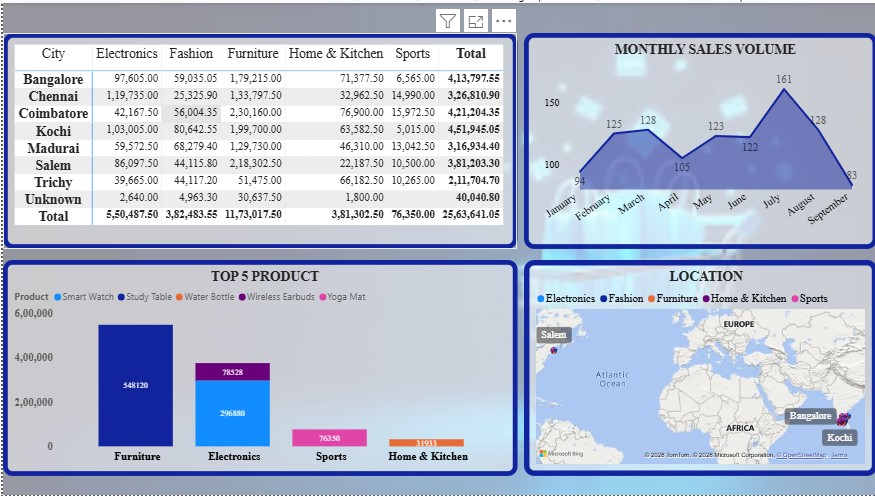

What the dashboard file says about the page in this screenshot:
{"tool":"powerbi","page":{"name":"Page 3","canvas":[1280,720],"ordinal":2},"visuals":[{"type":"pivotTable","fields":{"Rows":["Sales Data.City"],"Columns":["Sales Data.Category"],"Values":["Sum(Sales Data.Sales amount check)"]},"box":[0,44.4,752.7,316],"z":0},{"type":"columnChart","title":"TOP 5 PRODUCT","fields":{"Y":["Sum(Sales Data.Sales Amount)"],"Category":["Sales Data.Category"],"Series":["Sales Data.Product"]},"box":[0,376.4,752.7,316],"z":1000},{"type":"lineChart","title":"MONTHLY SALES VOLUME","fields":{"Y":["Sum(Sales Data.Quantity)"],"Category":["Sales Data.Order Date.Variation.Date Hierarchy.Month"]},"box":[763,44,517,316],"z":2000},{"type":"map","title":"LOCATION","fields":{"Category":["Sales Data.City"],"Series":["Sales Data.Category"]},"box":[763,376,517,316],"z":3000}]}

Visuals, with their boxes in screenshot pixels (x1, y1, x2, y2), scaled from the page's 1280x720 canvas onto the 875x496 screenshot:
pivotTable - Sales Data.City x Sales Data.Category: (left=0, top=31, right=515, bottom=248)
"TOP 5 PRODUCT" columnChart: (left=0, top=259, right=515, bottom=477)
"MONTHLY SALES VOLUME" lineChart: (left=522, top=30, right=874, bottom=248)
"LOCATION" map: (left=522, top=259, right=874, bottom=477)
